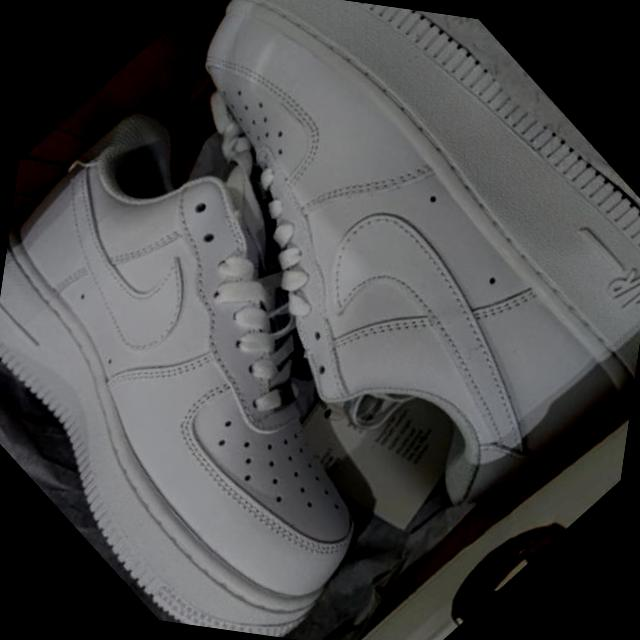nike_original_airforce: (22, 0, 640, 567), (0, 51, 547, 640)
